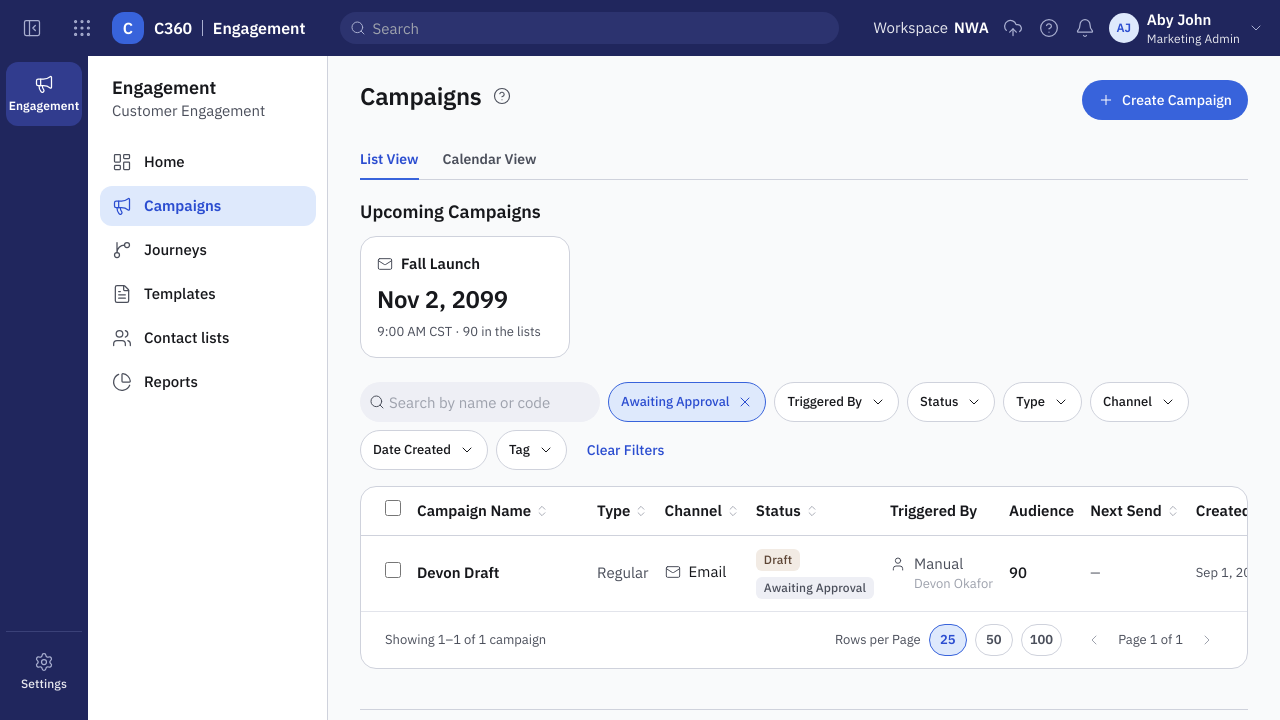
Test: no row of saved views; a link’s view (?saved=approval) still asks the API and shows as one chip that lifts it; Next Send is in the campaign’s zone
The image size is (1280, 720).
What coordinates should you click on to do the following:
click the button with aria-label "Remove the Awaiting Approval view"
I would click on:
 (687, 402)
Its box is [608,382,766,422].
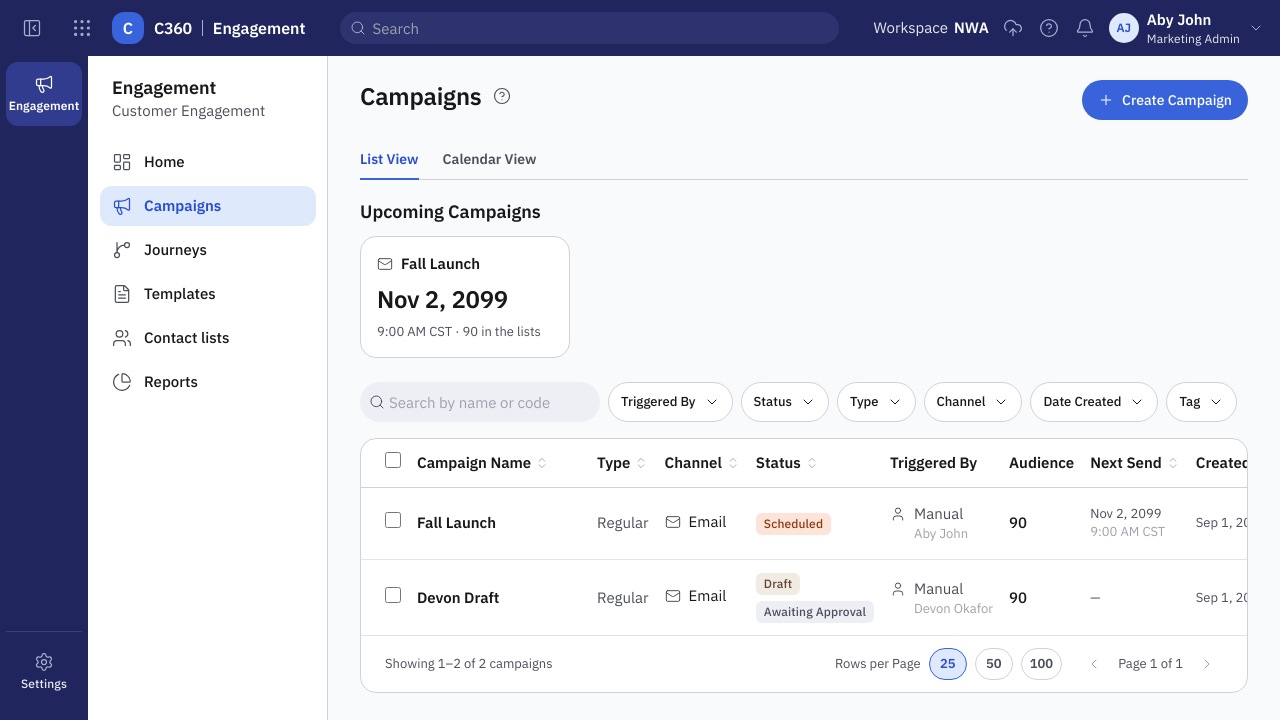
Expected: the button "Fall Launch" is shown, [417,512,496,534]
